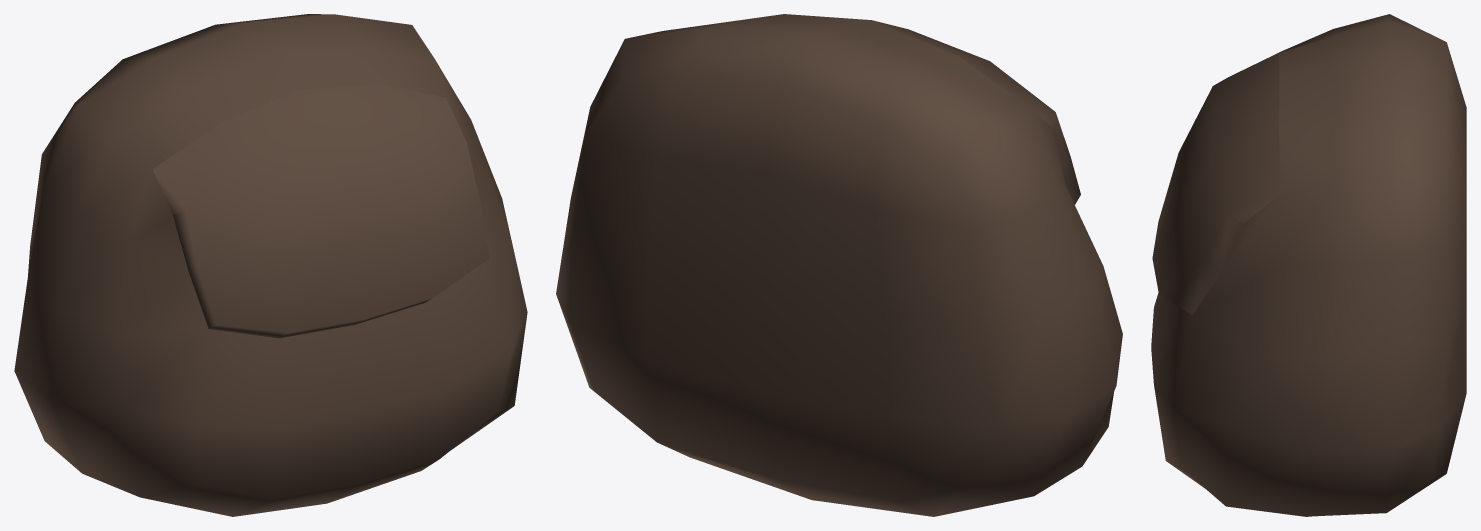
Rendered from Bag_01.fbx.
The picture shows the model from 3 angles, left to right: view 1: azimuth 30°, elevation 25°; view 2: azimuth 150°, elevation 25°; view 3: azimuth 270°, elevation 25°; orthographic projection. The views are drawn at different scales.
Visible parts, largest first — view 1: bag_01; view 2: bag_01; view 3: bag_01.
Part boxes in pixels (x1=…): bag_01: x1=14, y1=14, x2=527, y2=516; bag_01: x1=556, y1=14, x2=1122, y2=516; bag_01: x1=1151, y1=14, x2=1466, y2=516.
Bounding box in the file's own units: 27.21 × 23.75 × 16.
